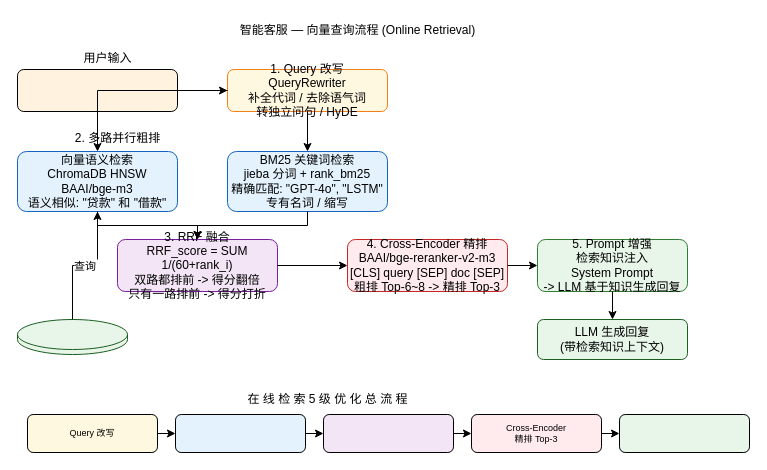
Image size: 767x470. Some labels were removed from this diagram. The shapes that lost their labels are listed below. From the top down, each one's centre as x and y in pixels, then its label:
pixel 97 90: 用户原始 Query "上次说的那个利率呢"
pixel 72 336: ChromaDB
pixel 240 433: 向量+BM25 多路并行
pixel 388 433: RRF 融合
pixel 684 433: Prompt 增强 知识注入生成
